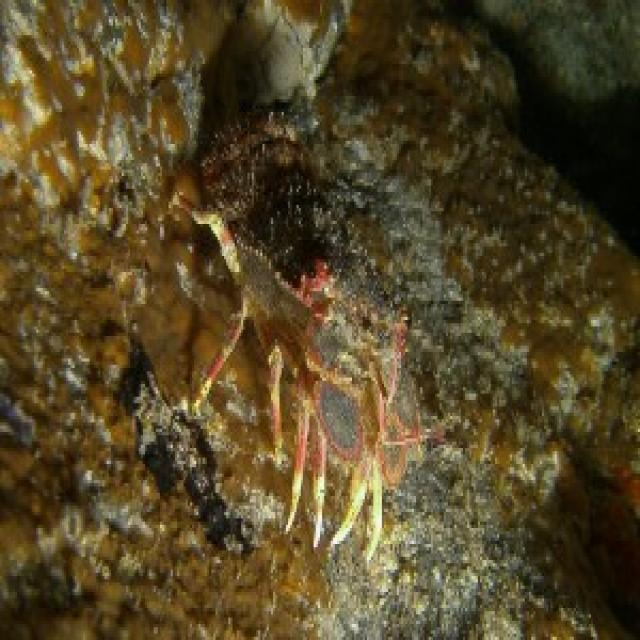lobsters: (160, 165, 459, 560)
